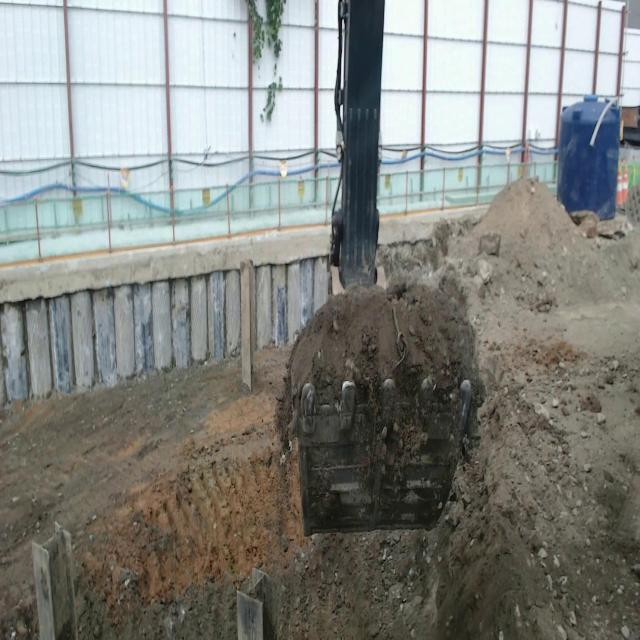red-sand: (0, 181, 640, 639), (284, 283, 476, 436)
